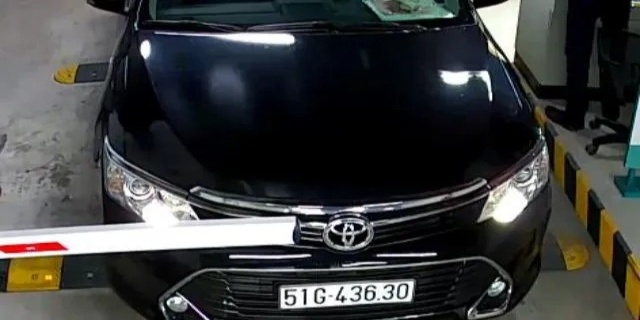bien_so: (280, 284, 415, 305)
